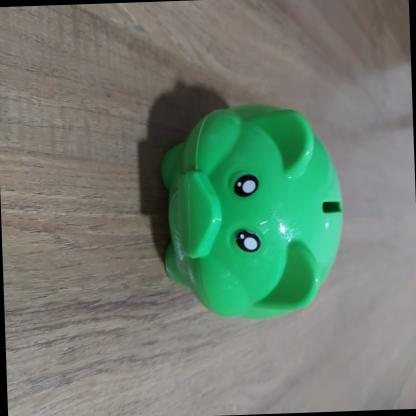plastic: (150, 93, 352, 326)
